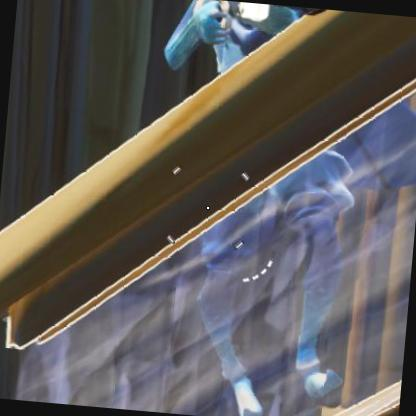person: (171, 0, 375, 381)
